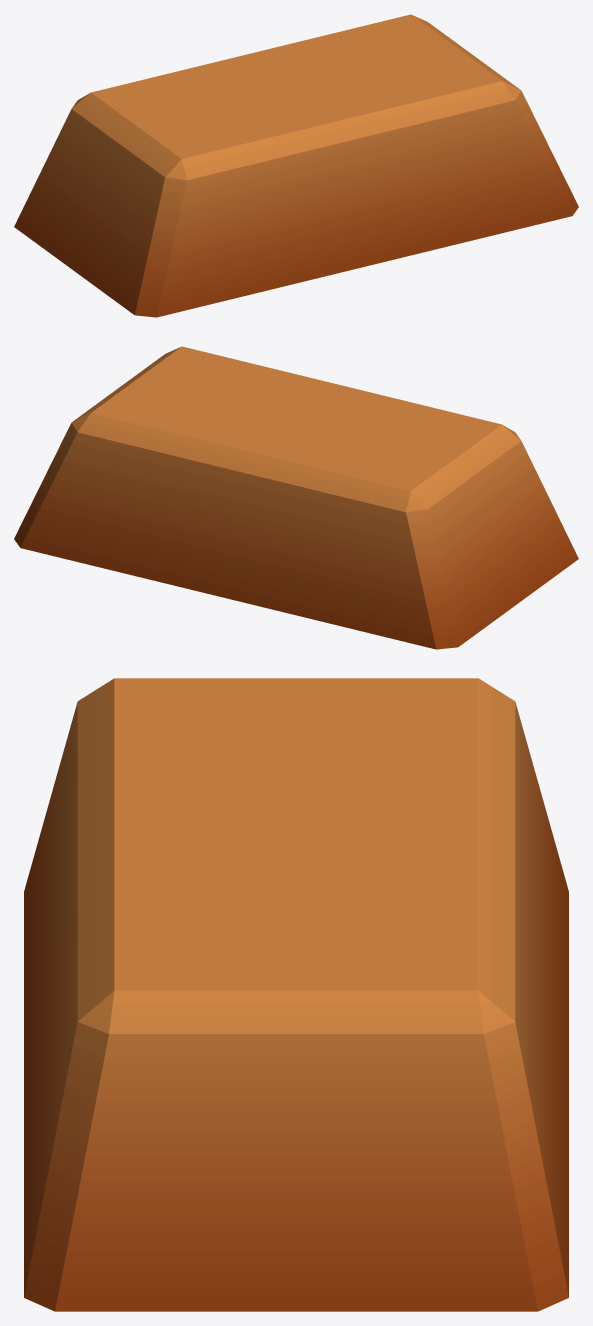
The model's file is copper_ingot.glb.
3 views of the same model, one above another, from view 1: azimuth 30°, elevation 25°; view 2: azimuth 150°, elevation 25°; view 3: azimuth 270°, elevation 25° (orthographic). The views are drawn at different scales.
Visible parts, largest first — view 1: SM_Copper_Ingot2; view 2: SM_Copper_Ingot2; view 3: SM_Copper_Ingot2.
Part boxes in pixels (<box>): SM_Copper_Ingot2: <box>14,14,578,317</box>; SM_Copper_Ingot2: <box>14,346,578,649</box>; SM_Copper_Ingot2: <box>24,678,568,1311</box>.
Bounding box in the file's own units: 0.5519 × 0.1546 × 0.2932.
1 material, 1 textured.
